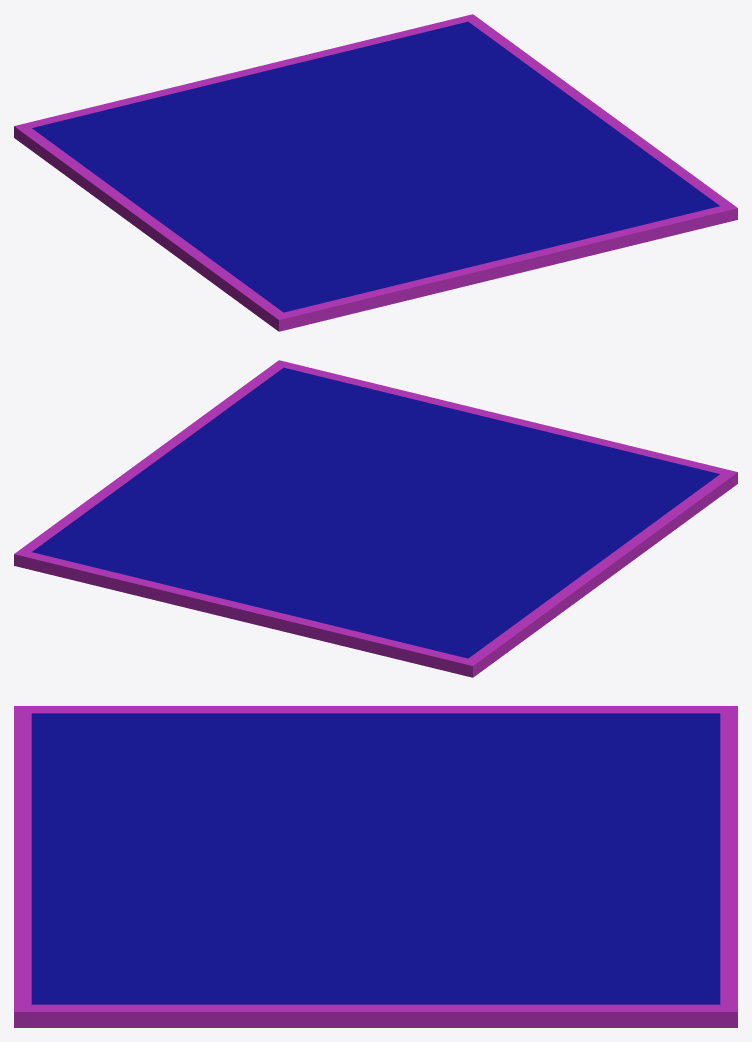
Rendered from polina.obj.
3 views of the same model, one above another, from view 1: azimuth 30°, elevation 25°; view 2: azimuth 150°, elevation 25°; view 3: azimuth 270°, elevation 25° (orthographic). The views are drawn at different scales.
Size of the model in its own units: 4.1 by 0.1 by 4.1.
1 material, 1 textured.
